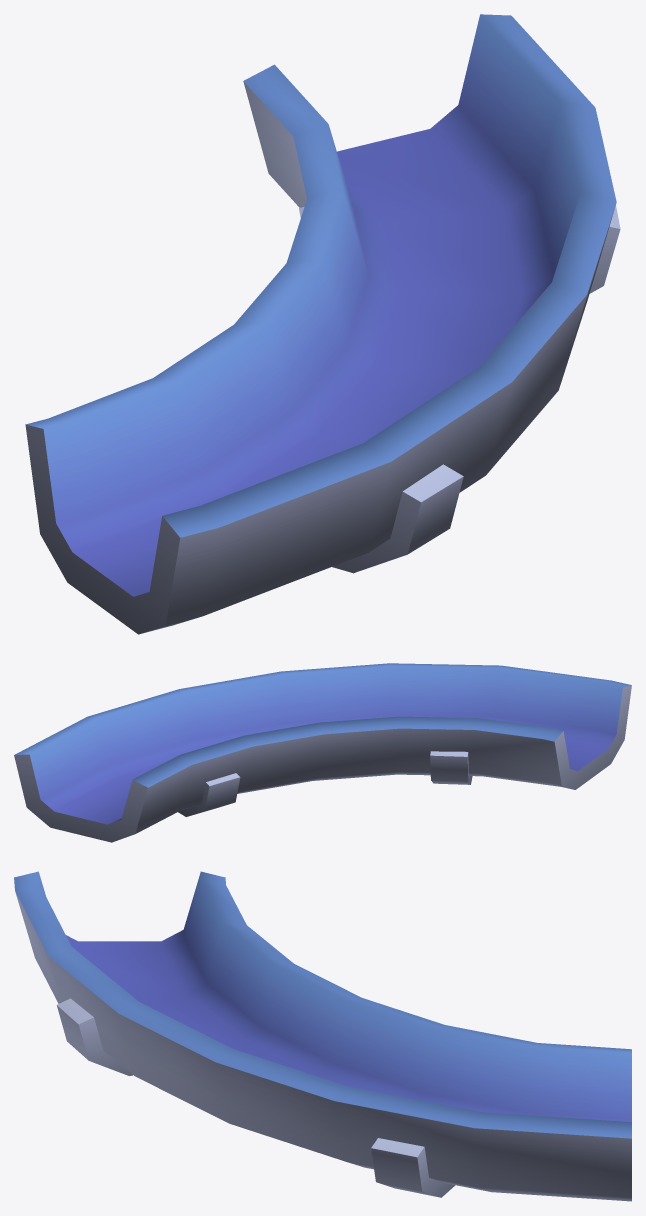
The model's file is kenney-coaster-coaster-flume-corner-small.glb.
3 views of the same model, one above another, from view 1: azimuth 30°, elevation 25°; view 2: azimuth 150°, elevation 25°; view 3: azimuth 270°, elevation 25° (orthographic). The views are drawn at different scales.
Visible parts, largest first — view 1: coaster-flume-corner-small; view 2: coaster-flume-corner-small; view 3: coaster-flume-corner-small.
Part boxes in pixels (<box>): coaster-flume-corner-small: <box>25,14,620,634</box>; coaster-flume-corner-small: <box>14,663,631,842</box>; coaster-flume-corner-small: <box>14,871,631,1201</box>.
Size of the model in its own units: 2.41 by 0.451 by 2.41.
1 material, 1 textured.
